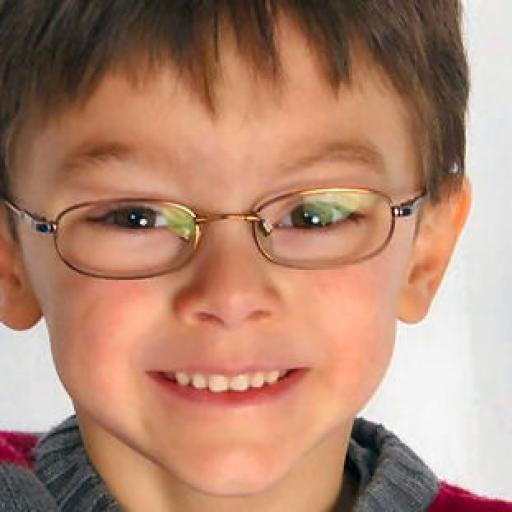Autism: (8, 11, 480, 491)
